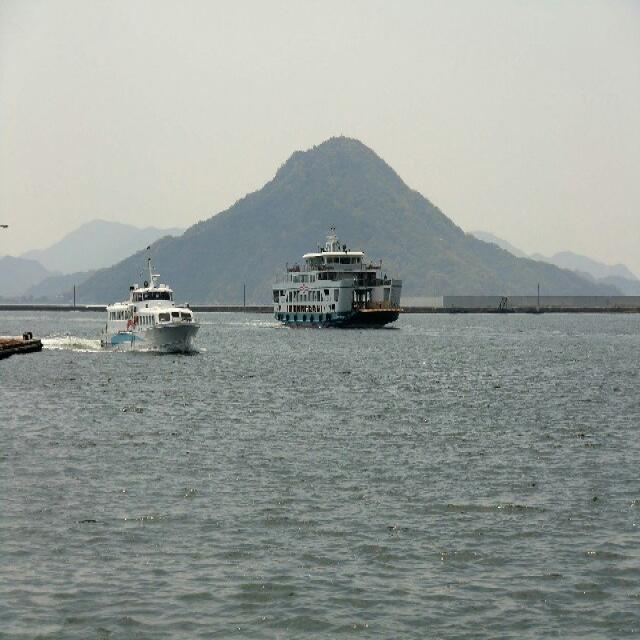passenger ship: (104, 276, 198, 352), (249, 228, 268, 239)
